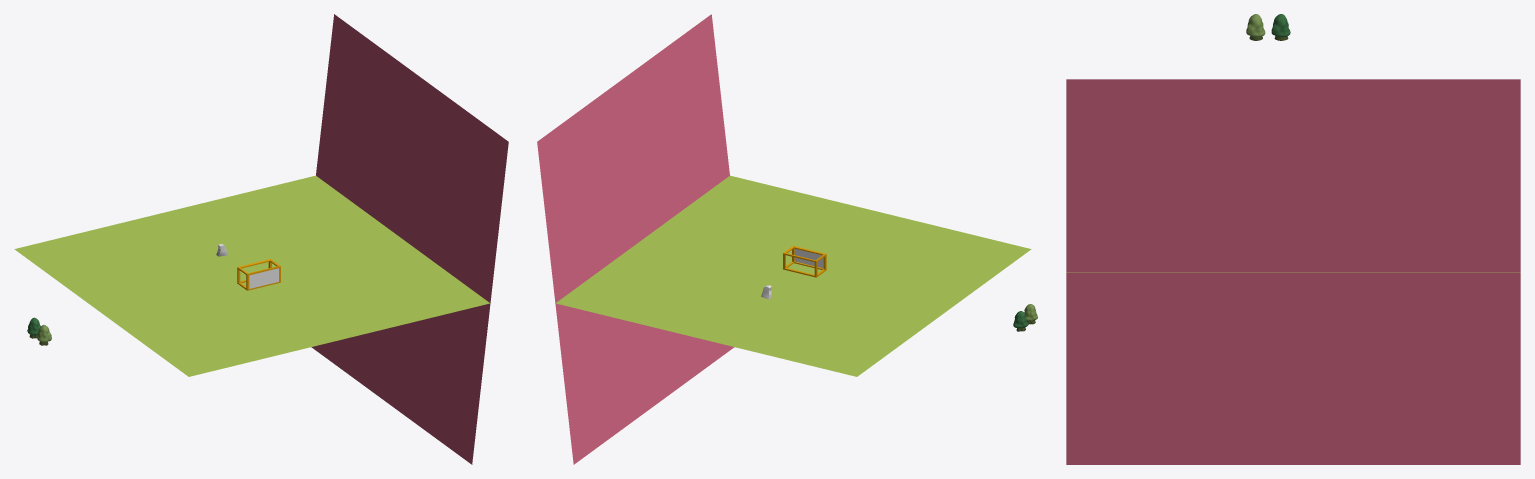
The model's file is boxroom.fbx.
The picture shows the model from 3 angles, left to right: view 1: azimuth 30°, elevation 25°; view 2: azimuth 150°, elevation 25°; view 3: azimuth 270°, elevation 25°; orthographic projection. The views are drawn at different scales.
Parts seen in each view (by area): view 1: Plane.030, Plane.019, Plane; view 2: Plane.030, Plane.019, Plane; view 3: Plane.019.
Boxes of the visible parts, <box> form: Plane.030: <box>14,175,490,376</box>; Plane.019: <box>311,14,508,464</box>; Plane: <box>237,259,280,290</box>; Plane.030: <box>555,175,1031,376</box>; Plane.019: <box>537,14,734,464</box>; Plane: <box>783,246,826,277</box>; Plane.019: <box>1066,79,1520,464</box>.
Size of the model in its own units: 19073 by 14393 by 14499.
